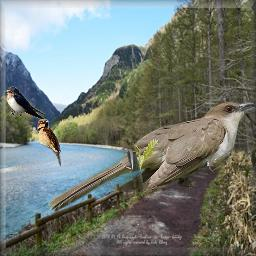Cuckoo: (47, 100, 255, 211)
Swallow: (4, 86, 46, 121), (37, 119, 61, 166)
